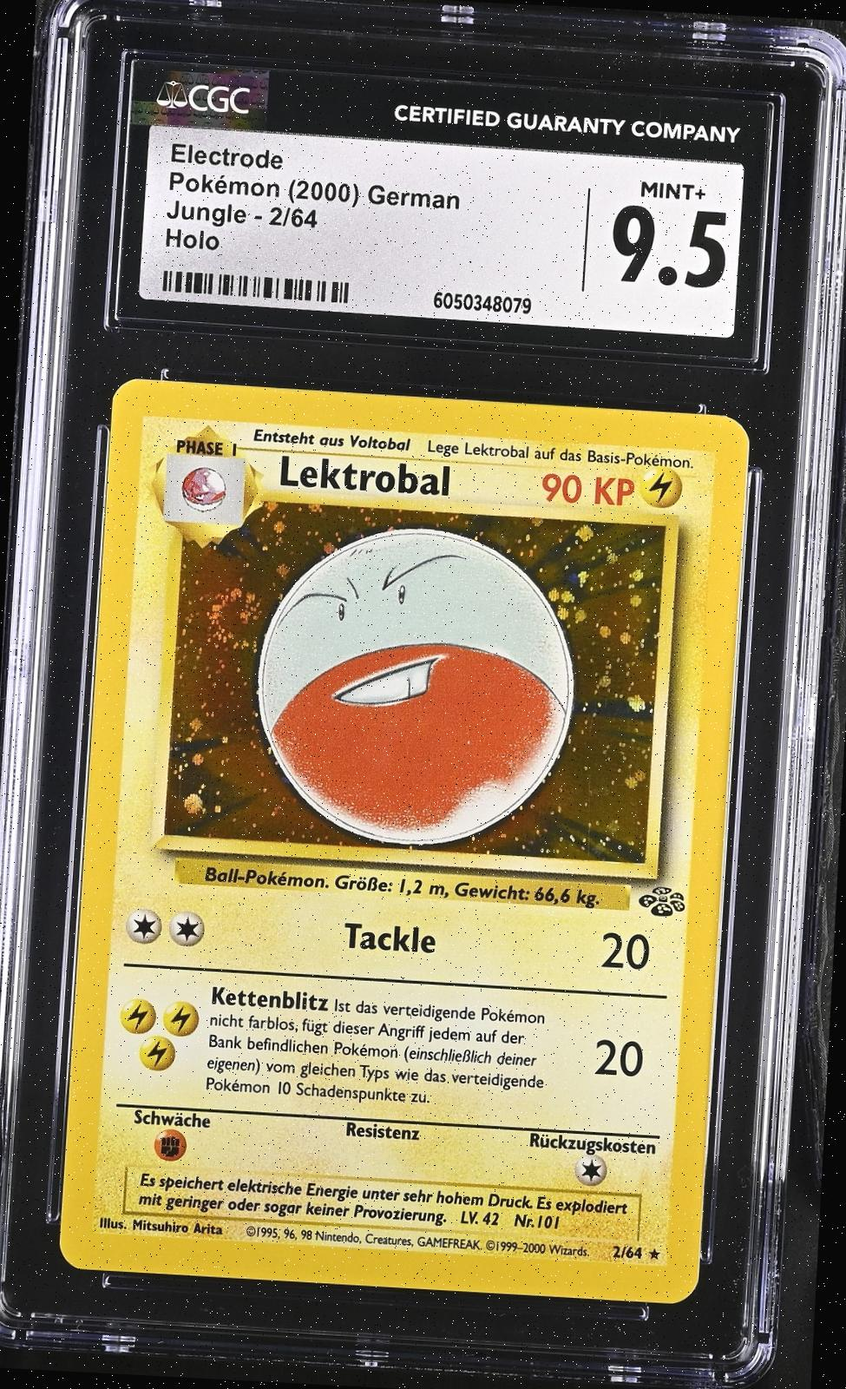card-2UtV: (58, 378, 750, 1305)
